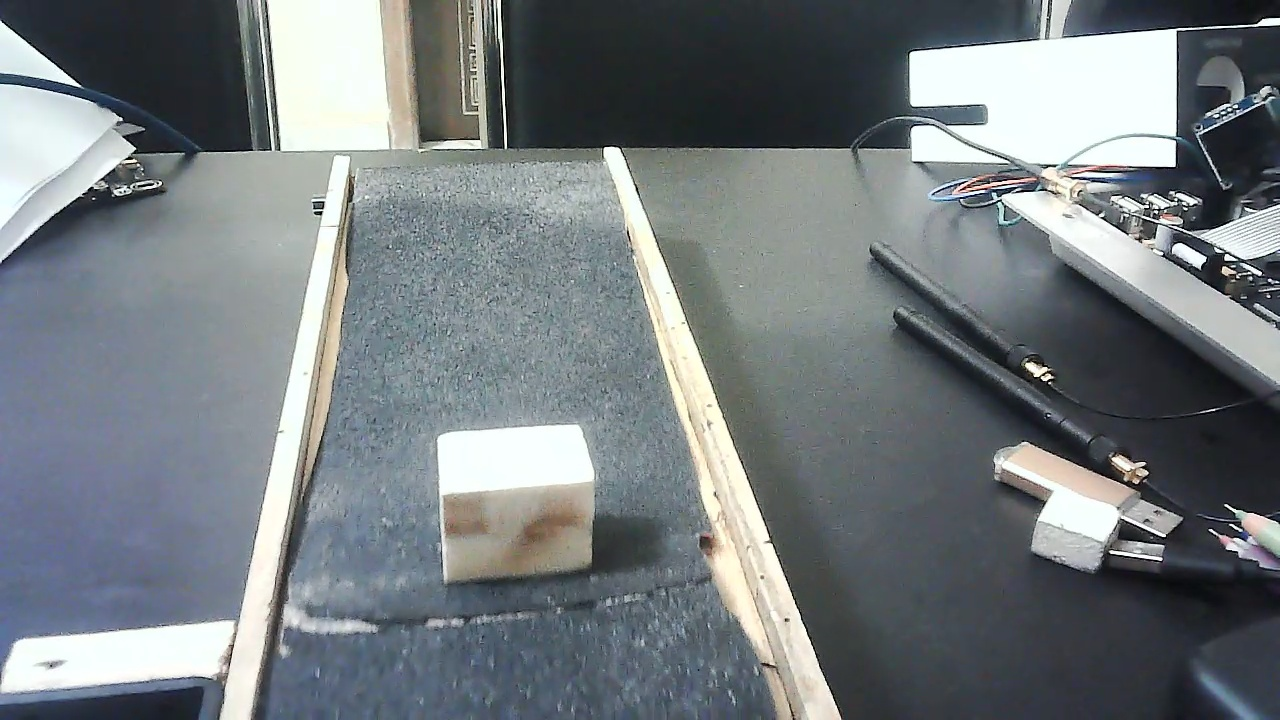Medium: (436, 420, 599, 583)
